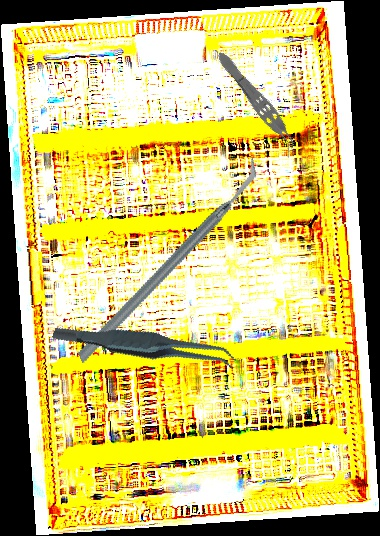Chopper: (33, 154, 302, 367)
Tissue Forceps: (51, 288, 239, 404), (210, 46, 306, 160)
